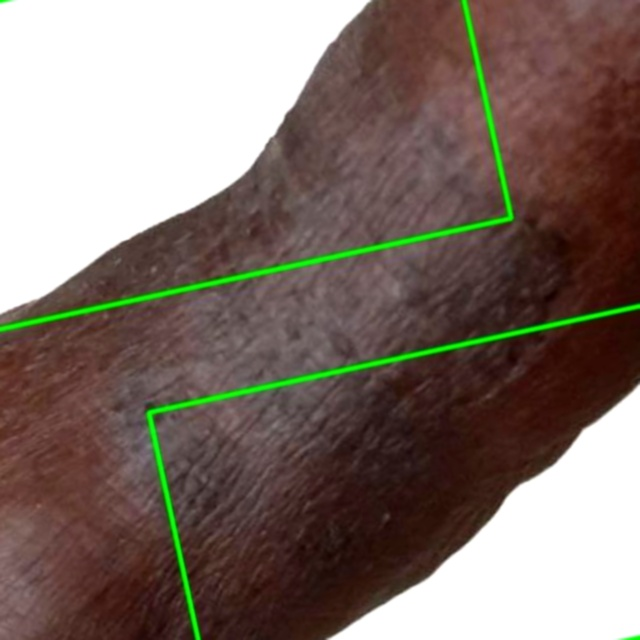Eczema: (0, 0, 511, 329), (149, 307, 639, 639)
